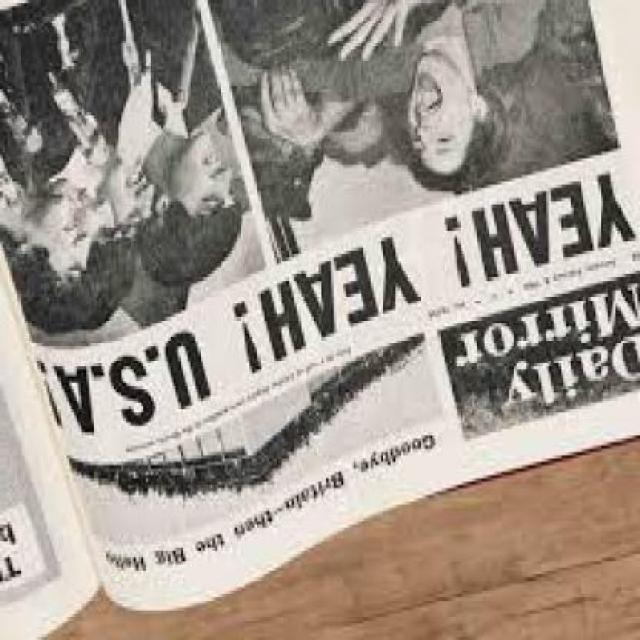PAPER: (1, 1, 638, 618), (1, 234, 104, 638)
